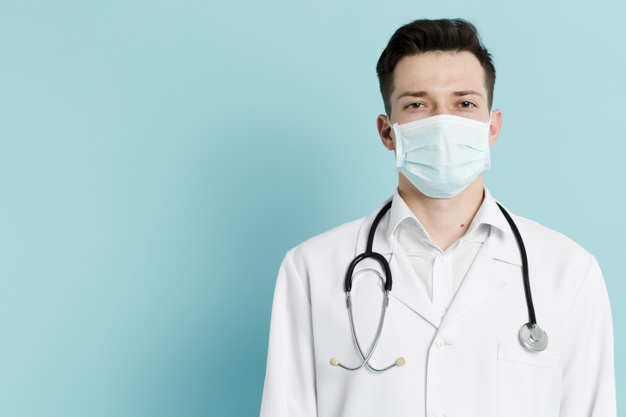surgical: (379, 110, 496, 200)
